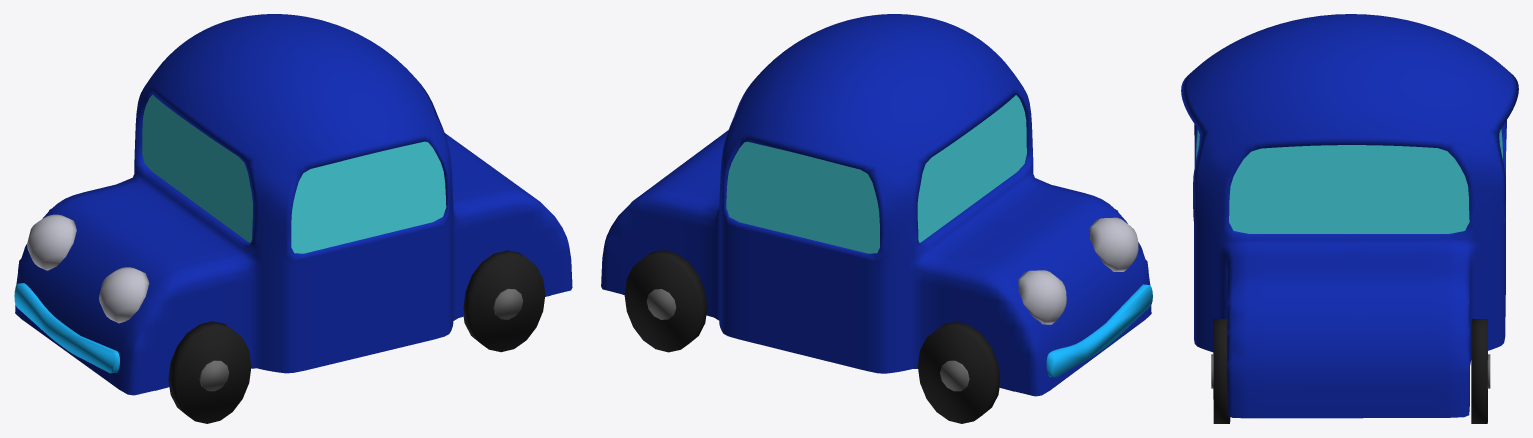
Rendered from split-lowpoly car.FBX.
3 views of the same model, side by side, from view 1: azimuth 30°, elevation 25°; view 2: azimuth 150°, elevation 25°; view 3: azimuth 270°, elevation 25° (orthographic). The views are drawn at different scales.
Parts seen in each view (by area): view 1: Box001, front-left-wheel, back-left-wheel, left-light, right-light; view 2: Box001, back-right-wheel, front-right-wheel, left-light, right-light; view 3: Box001, back-right-wheel, back-left-wheel.
Boxes of the visible parts, x1,y1,x2,y2 form: Box001: (14,14,572,395); front-left-wheel: (168,321,251,423); back-left-wheel: (463,250,545,352); left-light: (99,267,149,323); right-light: (27,214,76,270); Box001: (601,14,1152,396); back-right-wheel: (624,250,707,352); front-right-wheel: (917,321,1000,423); left-light: (1089,217,1138,271); right-light: (1018,270,1066,324); Box001: (1181,14,1518,418); back-right-wheel: (1471,319,1490,423); back-left-wheel: (1211,319,1230,423).
Size of the model in its own units: 413 by 265 by 257.
